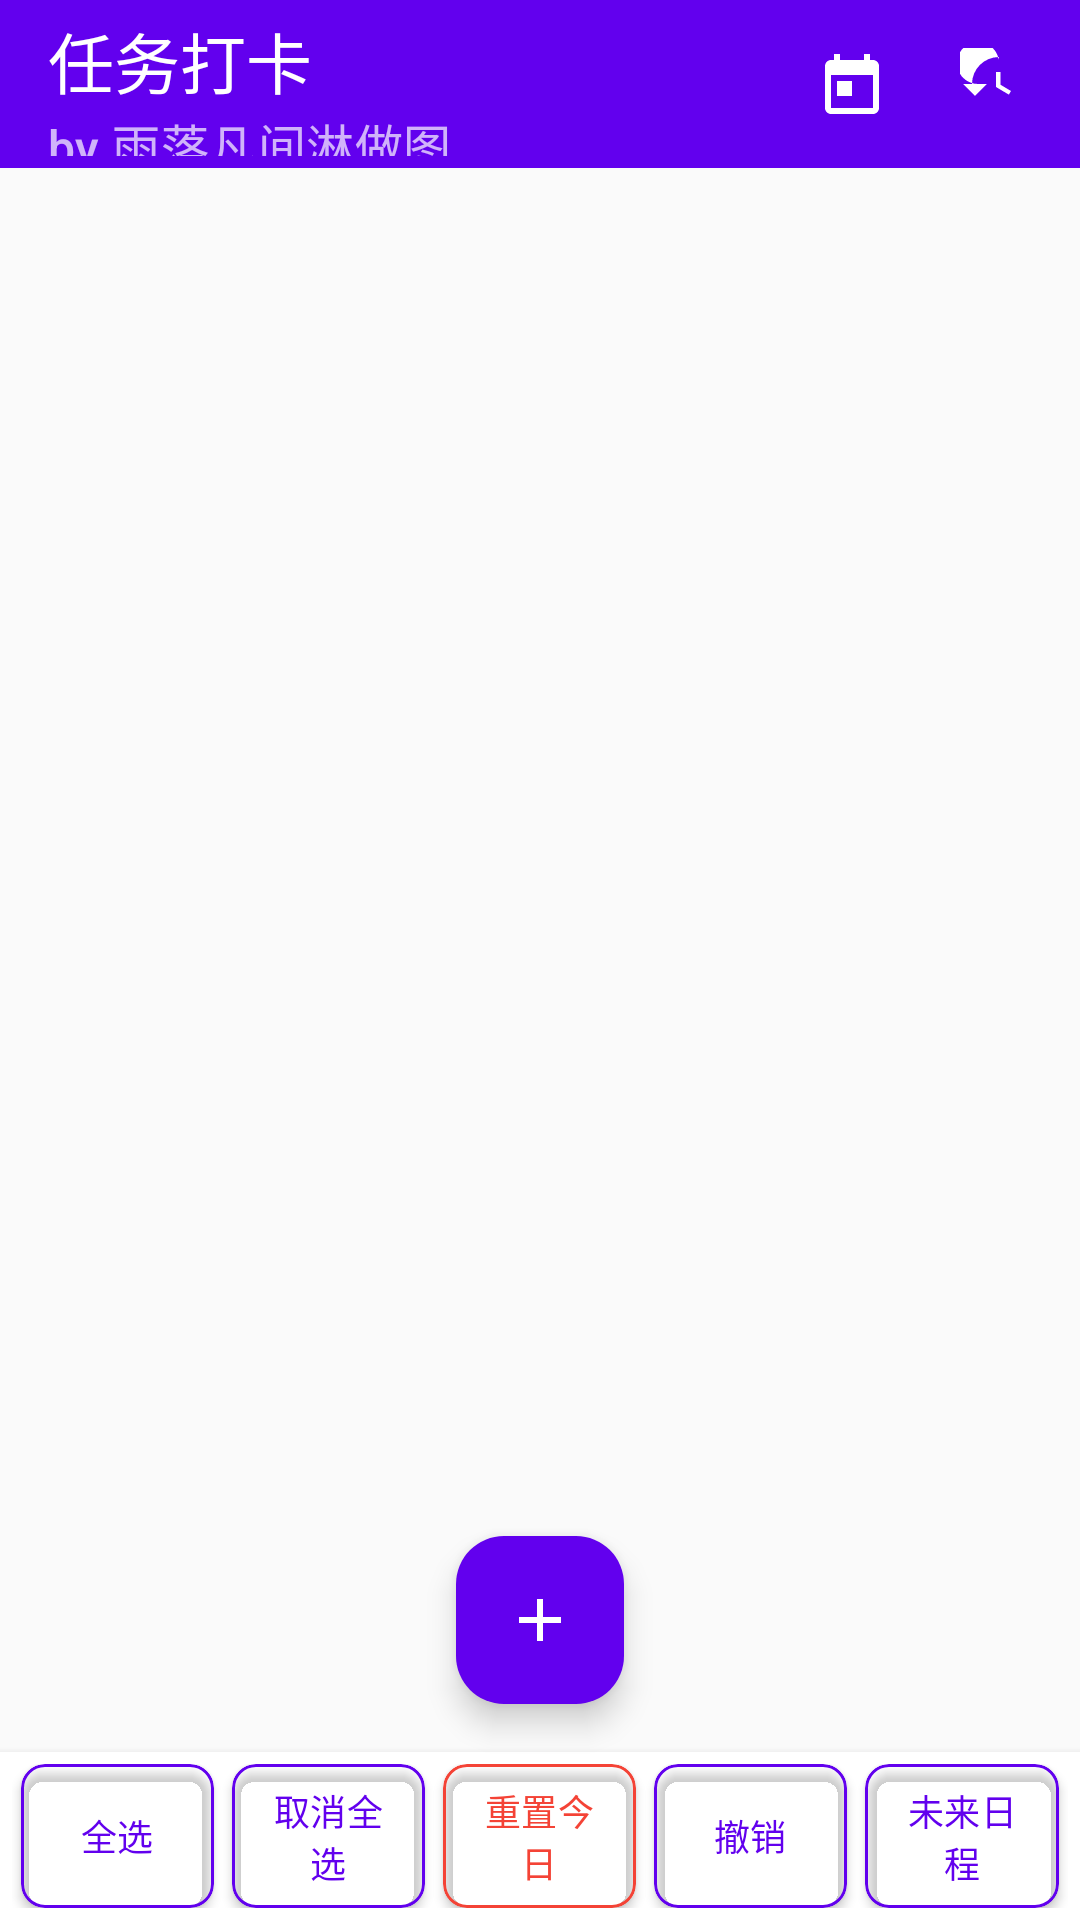

Icon click points for this 1080w x 1920h phone screenshot, format [x,y]:
日历: [852,84]
添加任务: [540,1620]
